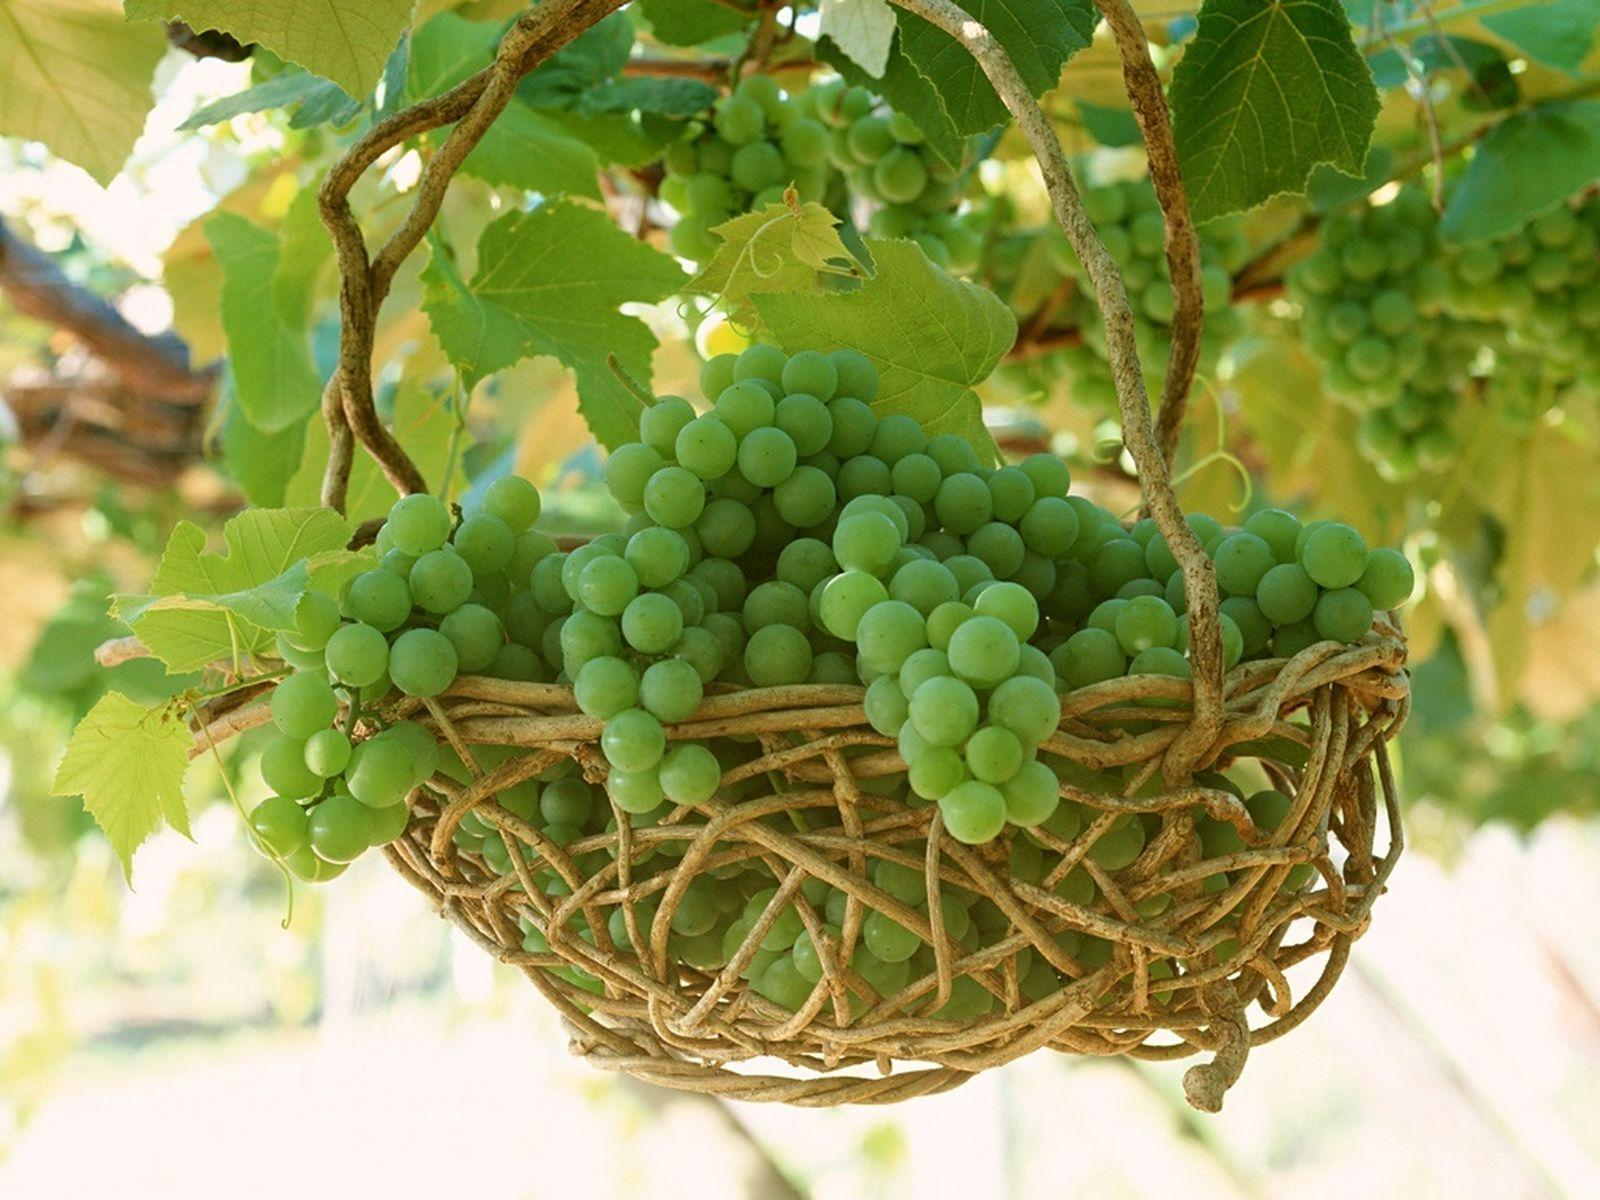grape: (562, 344, 1062, 879), (210, 450, 566, 894)
